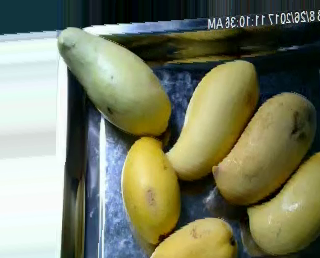Mango: (57, 26, 170, 133), (211, 91, 317, 205), (164, 61, 258, 179), (247, 153, 320, 254), (121, 137, 180, 244), (149, 218, 238, 258)
